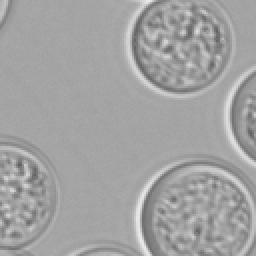picoshell: (134, 158, 254, 254), (124, 0, 234, 96), (0, 136, 58, 250), (222, 66, 254, 166), (66, 240, 140, 254)
